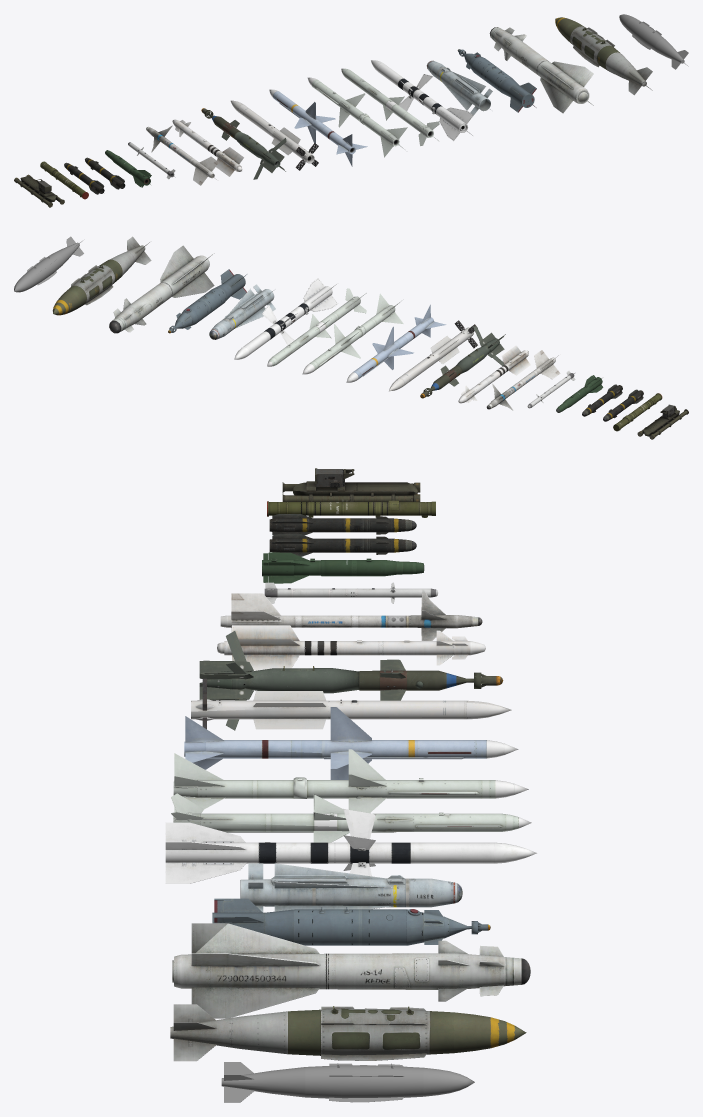
Rendered from missiles.FBX.
3 views of the same model, one above another, from view 1: azimuth 30°, elevation 25°; view 2: azimuth 150°, elevation 25°; view 3: azimuth 270°, elevation 25° (orthographic). The views are drawn at different scales.
Parts seen in each view (by area): view 1: M_JDAM_D (×2), M_AS_14_Kedge_D, Vympel_R_27_metal, KAB_500L_M, AIM_7MSparrow_M, CH_PL_11_M, M_AGM_65_Maverick_D, US_Paveway_II_metal, CH_PL_12_M, Vympel_R_77_mat, M_AA_10_Archer_D, M_Aim_9_Sidewinder_D (+5 smaller); view 2: M_JDAM_D (×2), M_AS_14_Kedge_D, Vympel_R_27_metal, KAB_500L_M, AIM_7MSparrow_M, CH_PL_11_M, M_AGM_65_Maverick_D, US_Paveway_II_metal, Vympel_R_77_mat, CH_PL_12_M, M_AA_10_Archer_D, M_Aim_9_Sidewinder_D (+4 smaller); view 3: M_JDAM_D (×2), M_AS_14_Kedge_D, Vympel_R_27_metal, CH_PL_11_M, KAB_500L_M, AIM_7MSparrow_M, US_Paveway_II_metal, M_AGM_65_Maverick_D, Vympel_R_77_mat, CH_PL_12_M, M_AA_10_Archer_D, M_AGM_114_Hellfire_D (×2) (+5 smaller).
Boxes of the visible parts, x1,y1,x2,y2 form: M_JDAM_D (×2): (555,14,688,95); M_AS_14_Kedge_D: (489,27,593,113); Vympel_R_27_metal: (371,60,473,140); KAB_500L_M: (457,49,536,112); AIM_7MSparrow_M: (269,89,367,166); CH_PL_11_M: (307,77,407,157); M_AGM_65_Maverick_D: (426,60,492,115); US_Paveway_II_metal: (201,108,286,179); CH_PL_12_M: (341,68,439,145); Vympel_R_77_mat: (230,100,318,170); M_AA_10_Archer_D: (172,119,243,176); M_Aim_9_Sidewinder_D: (146,125,218,185); M_JDAM_D (×2): (14,236,151,315); M_AS_14_Kedge_D: (109,245,214,333); Vympel_R_27_metal: (234,278,337,359); KAB_500L_M: (168,269,247,333); AIM_7MSparrow_M: (346,304,446,382); CH_PL_11_M: (302,293,403,374); M_AGM_65_Maverick_D: (209,284,275,339); US_Paveway_II_metal: (420,326,505,398); Vympel_R_77_mat: (389,320,477,391); CH_PL_12_M: (267,288,366,366); M_AA_10_Archer_D: (458,345,530,403); M_Aim_9_Sidewinder_D: (486,350,560,410); M_JDAM_D (×2): (170,1004,526,1102); M_AS_14_Kedge_D: (172,923,530,1018); Vympel_R_27_metal: (165,809,536,883); CH_PL_11_M: (173,749,528,813); KAB_500L_M: (212,898,490,945); AIM_7MSparrow_M: (184,707,518,779); US_Paveway_II_metal: (199,631,503,730); M_AGM_65_Maverick_D: (240,863,462,912); Vympel_R_77_mat: (191,678,511,729); CH_PL_12_M: (171,793,531,842); M_AA_10_Archer_D: (217,625,485,670); M_AGM_114_Hellfire_D (×2): (269,514,416,556).
Bounding box in the file's own units: 618 × 39.76 × 159.
18 materials, 17 textured.
